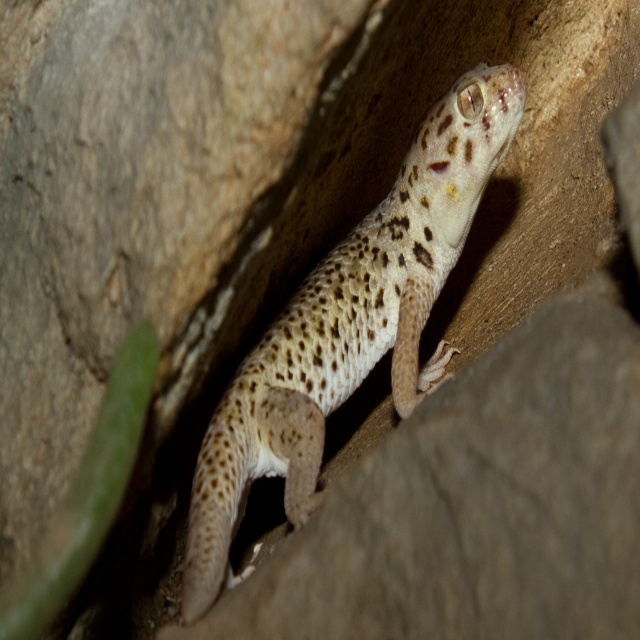Lizard: (164, 58, 525, 640)
